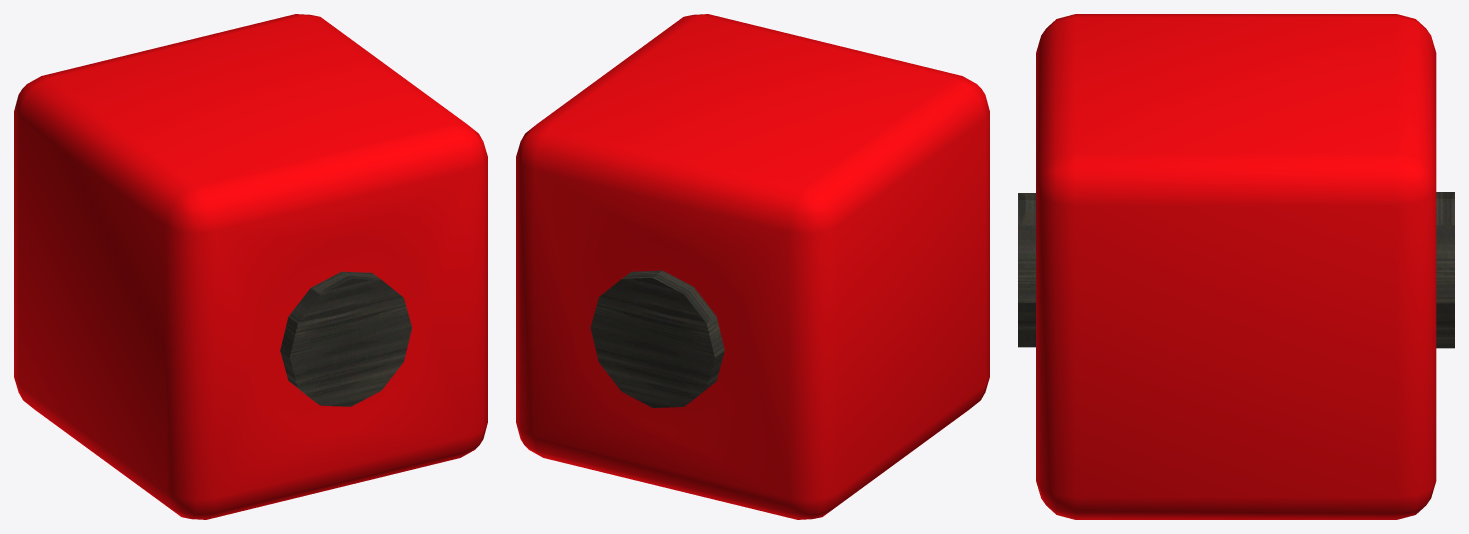
Rendered from CloudyGardenBlockStepA.fbx.
The picture shows the model from 3 angles, left to right: view 1: azimuth 30°, elevation 25°; view 2: azimuth 150°, elevation 25°; view 3: azimuth 270°, elevation 25°; orthographic projection. The views are drawn at different scales.
Parts seen in each view (by area): view 1: MAIN.001, MAIN; view 2: MAIN.001, MAIN; view 3: MAIN.001, MAIN.
Boxes of the visible parts, x1,y1,x2,y2 form: MAIN.001: [14, 14, 487, 519]; MAIN: [280, 271, 411, 406]; MAIN.001: [516, 14, 989, 519]; MAIN: [590, 270, 724, 407]; MAIN.001: [1036, 14, 1436, 519]; MAIN: [1018, 192, 1454, 348].
Size of the model in its own units: 50000 by 50000 by 54530.
